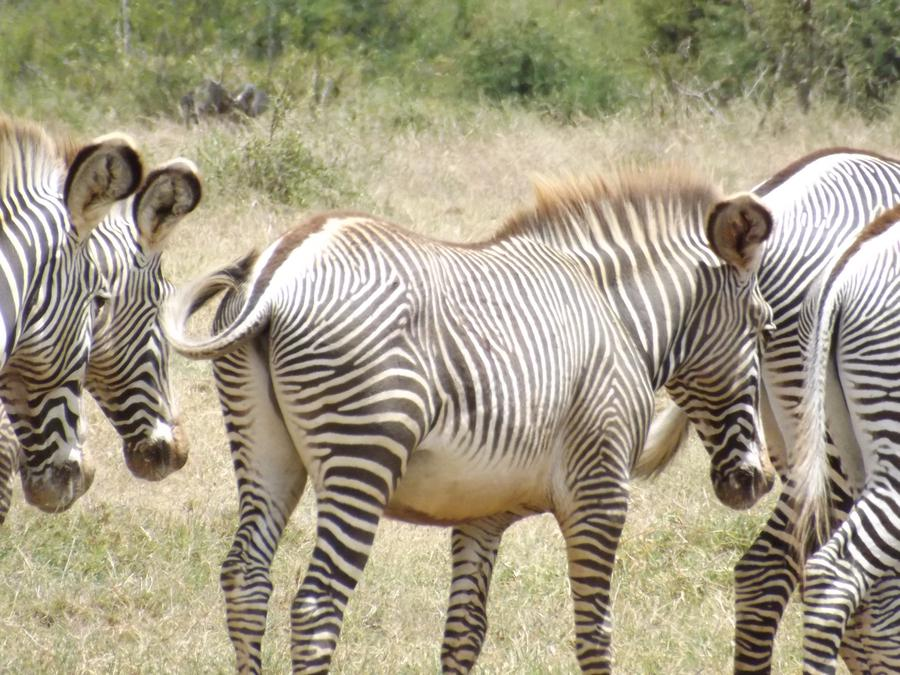zebra_grevys: (229, 220, 635, 478)
